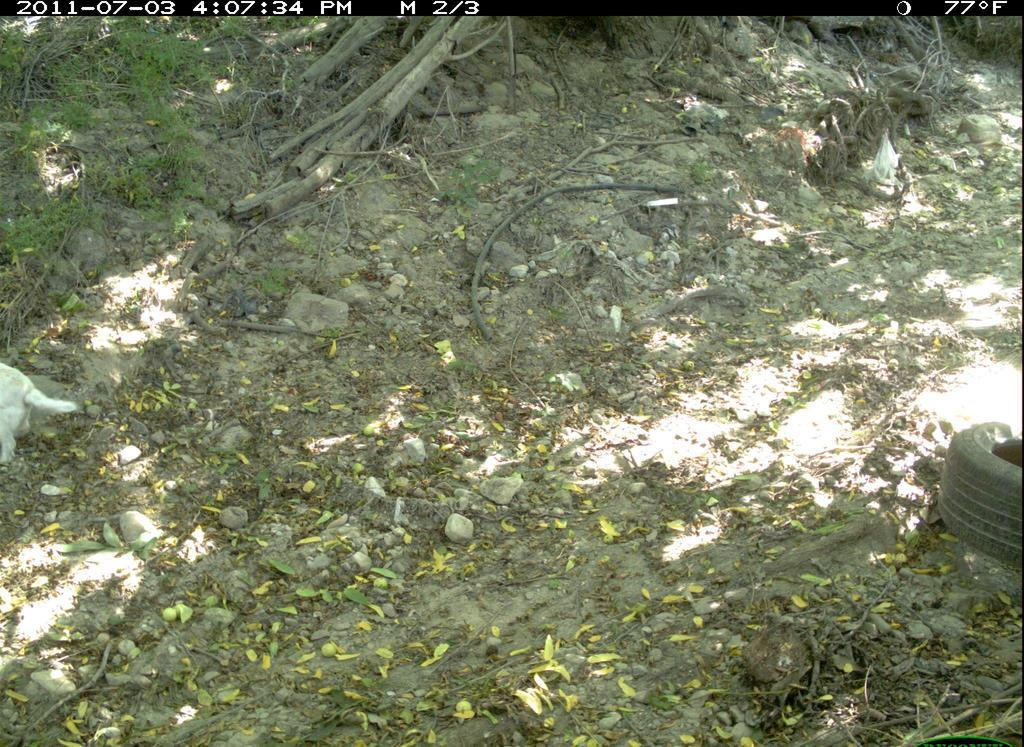dog: (1, 352, 91, 489)
